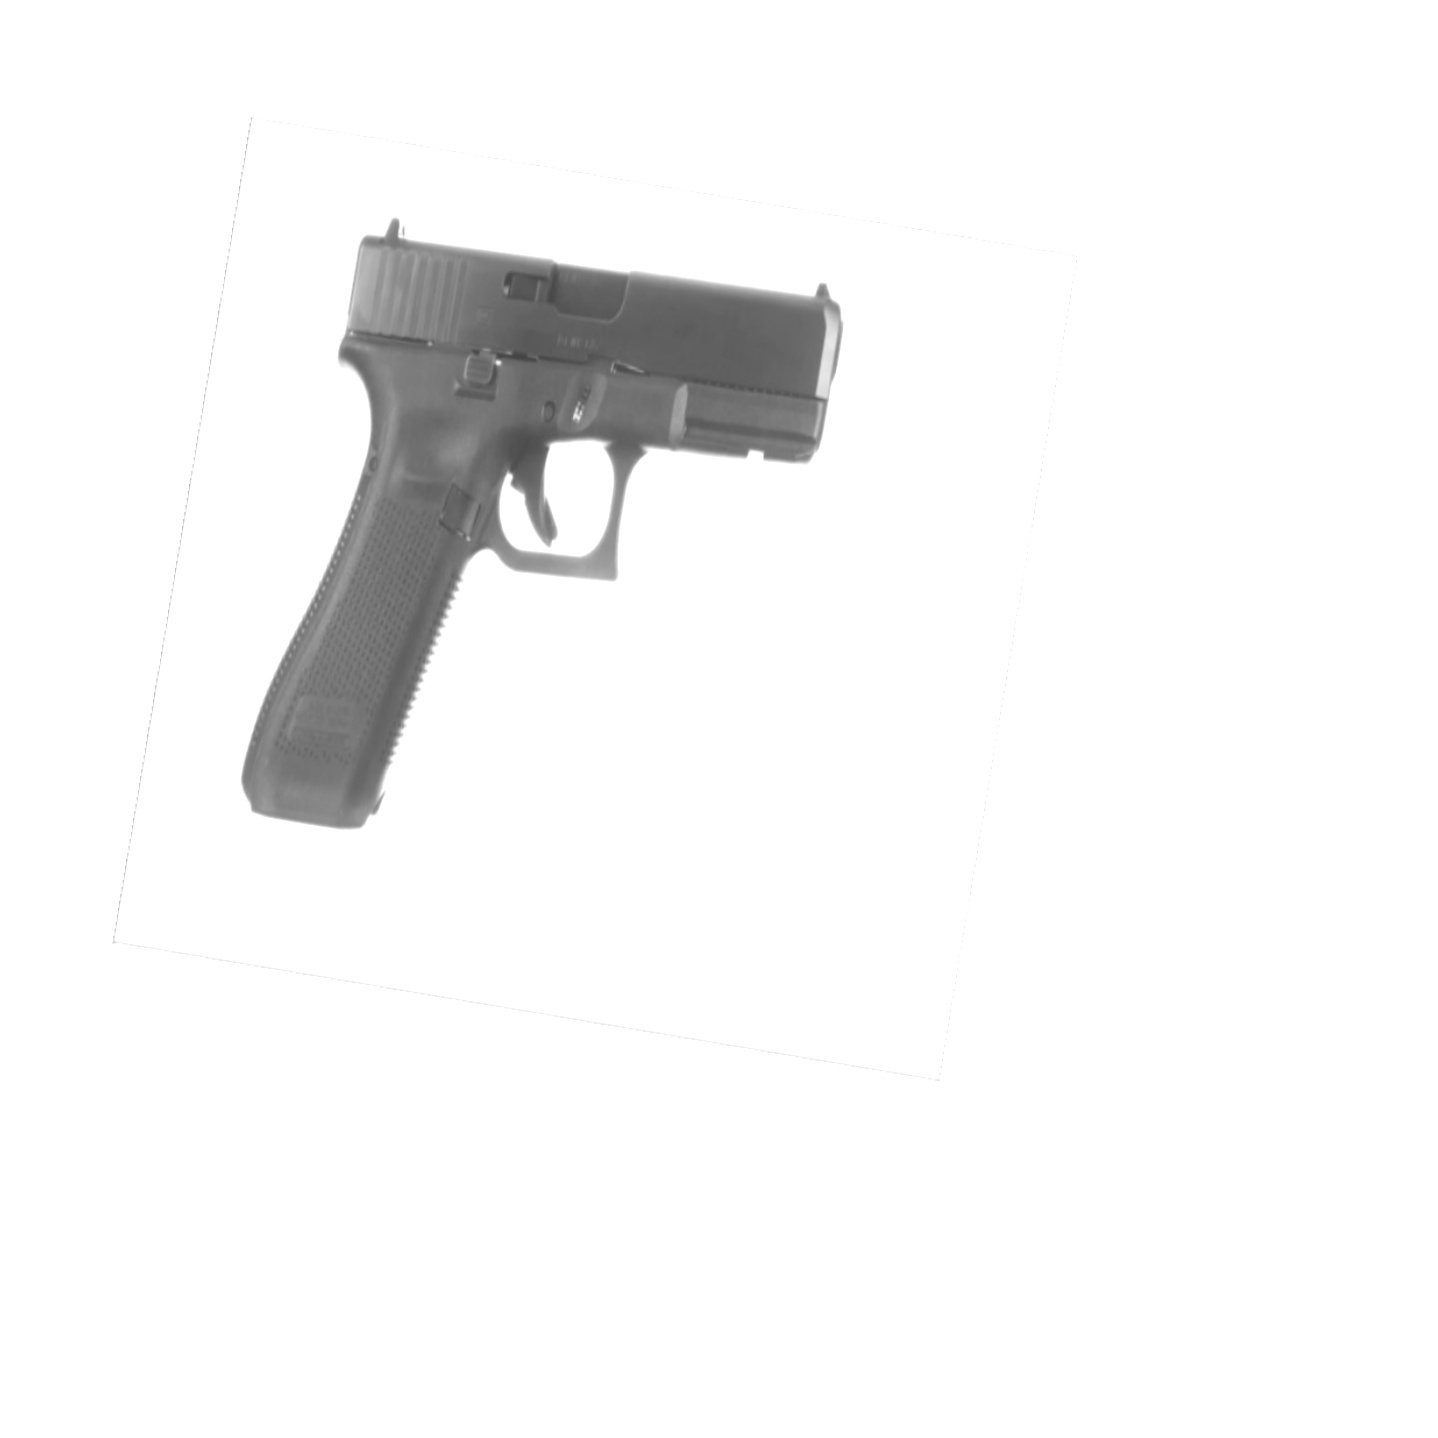gun: (241, 219, 843, 832)
